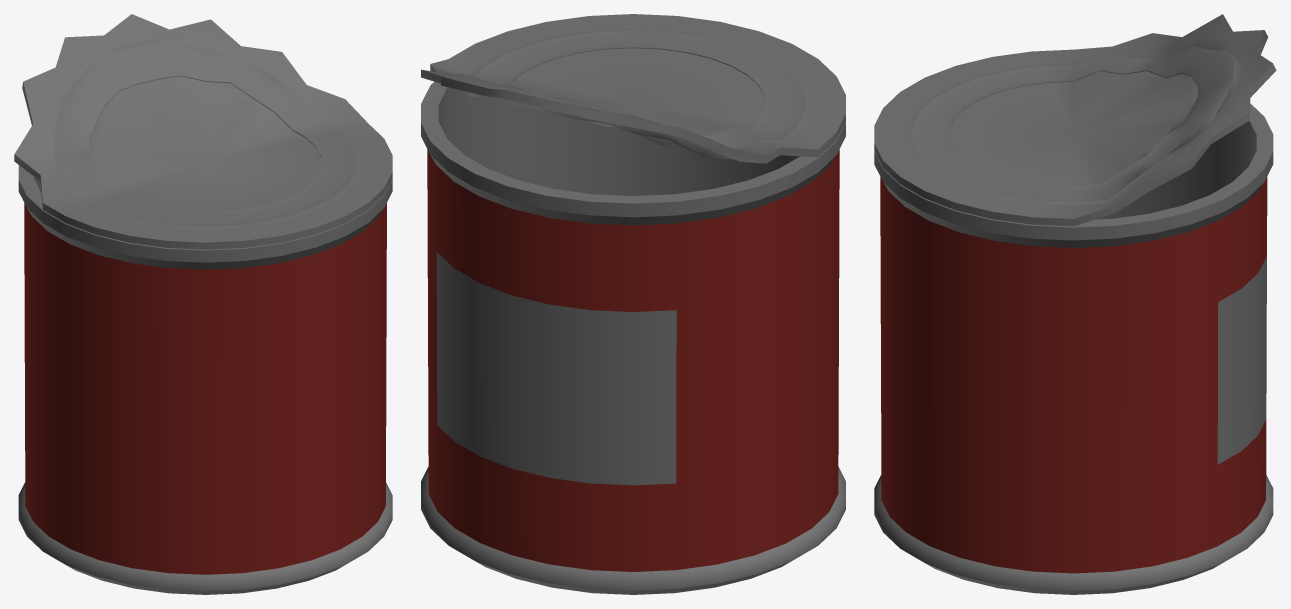
File: TinCanJagged.fbx
The picture shows the model from 3 angles, left to right: view 1: azimuth 30°, elevation 25°; view 2: azimuth 150°, elevation 25°; view 3: azimuth 270°, elevation 25°; orthographic projection. The views are drawn at different scales.
Visible parts, largest first — view 1: TinCanJagged; view 2: TinCanJagged; view 3: TinCanJagged.
Boxes of the visible parts, x1=… form: TinCanJagged: x1=14, y1=14, x2=392, y2=594; TinCanJagged: x1=421, y1=14, x2=845, y2=594; TinCanJagged: x1=874, y1=14, x2=1276, y2=594.
Bounding box in the file's own units: 2 × 2.55 × 2.01.
